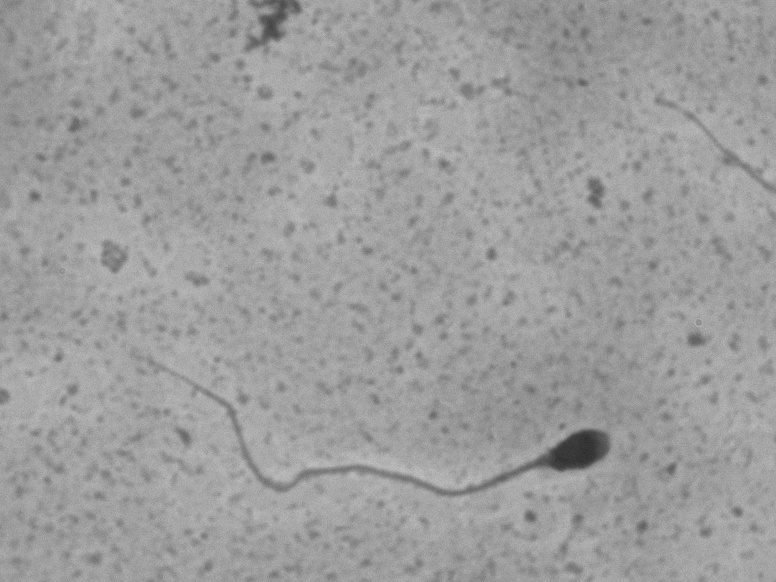Abnormal: (117, 338, 652, 512)
